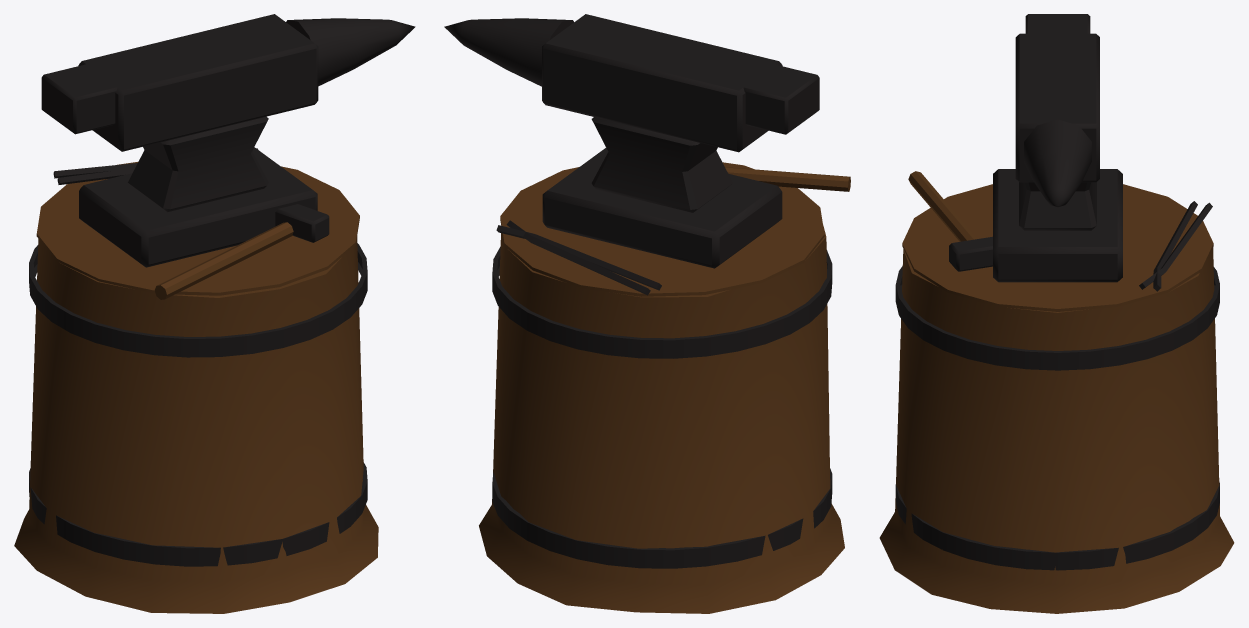
File: amboss.glb
3 renders of one model, left to right at view 1: azimuth 30°, elevation 25°; view 2: azimuth 150°, elevation 25°; view 3: azimuth 270°, elevation 25°, orthographic. The views are drawn at different scales.
Parts seen in each view (by area): view 1: amboss; view 2: amboss; view 3: amboss.
Boxes of the visible parts, x1,y1,x2,y2 form: amboss: [14, 14, 415, 613]; amboss: [444, 14, 850, 613]; amboss: [879, 14, 1234, 613].
Size of the model in its own units: 0.6419 by 0.7999 by 0.5473.
